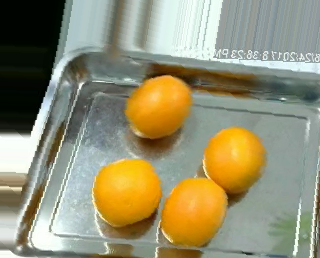Orange: (92, 156, 162, 227), (161, 175, 226, 247), (202, 125, 268, 195), (124, 75, 193, 138)
